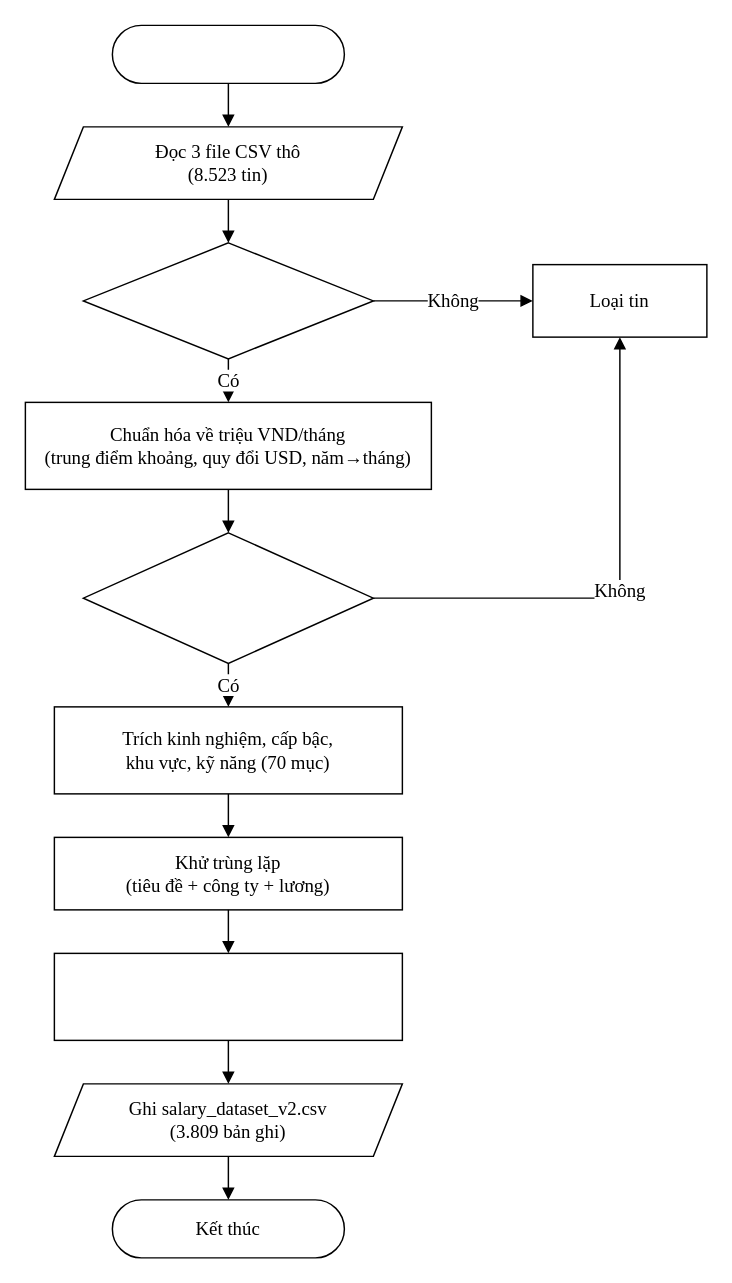
The diagram is 732 pixels wide and 1283 high, and some of its shapes have lost their labels. The shapes that lost their labels are listed below. From the top down, each one's centre as x and y in pixels, then its label:
At pixel 227 53: "Bắt đầu".
At pixel 227 300: "Lương đọc được?".
At pixel 227 597: "Chức danh thuộc vai trò CNTT?".
At pixel 227 996: "Gắn nhãn train / valid / test theo hash công ty (70/15/15)".
